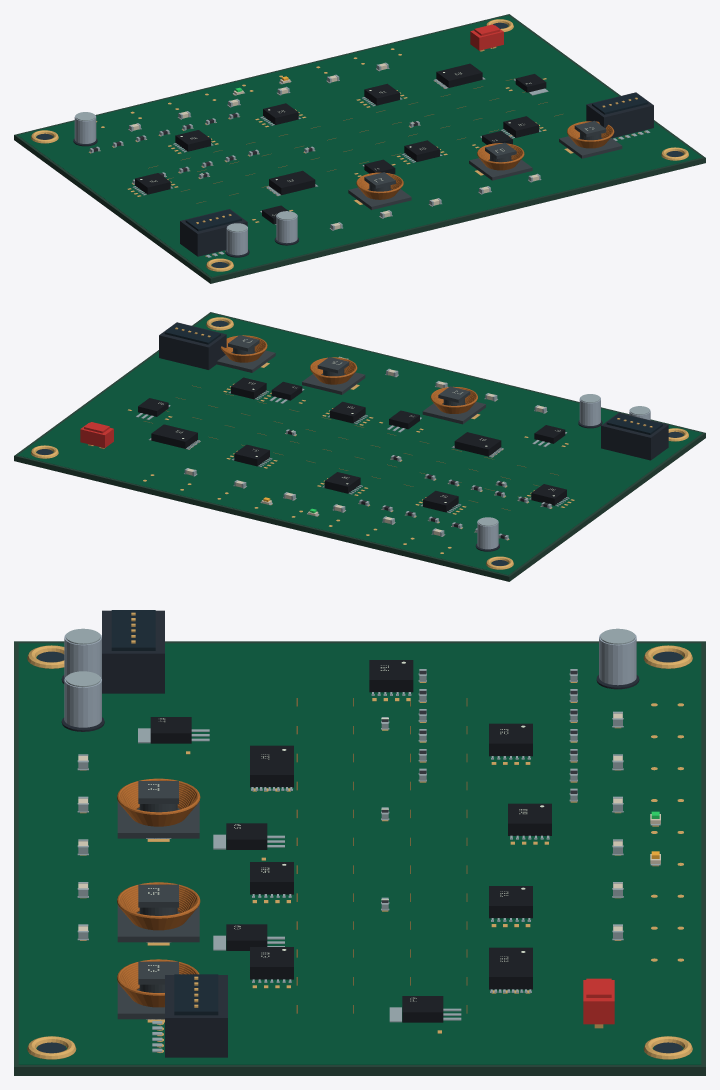
The model's file is L97_COMPLETE_ASSEMBLED_VISUAL_REFERENCE_ONLY.fbx.
3 views of the same model, one above another, from view 1: azimuth 30°, elevation 25°; view 2: azimuth 150°, elevation 25°; view 3: azimuth 270°, elevation 25° (orthographic). The views are drawn at different scales.
Visible parts, largest first — view 1: 00_L97_VGR5_Empty_PCB_160x110mm_top_soldermask, 00_L97_VGR5_Empty_PCB_160x110mm_FR4_core, 47_L97_J2_Connector_J2_shell, 46_L97_J1_Connector_J1_shell, 08_L97_U8_IC_U8_molded_body, 01_L97_U1_IC_U1_molded_body, 47_L97_J2_Connector_J2_opening, 46_L97_J1_Connector_J1_opening, 13_L97_L1_Inductor_L1_base, 14_L97_L2_Inductor_L2_base, 15_L97_L3_Inductor_L3_base, 03_L97_U3_IC_U3_molded_body (+9 smaller); view 2: 00_L97_VGR5_Empty_PCB_160x110mm_top_soldermask, 00_L97_VGR5_Empty_PCB_160x110mm_FR4_core, 46_L97_J1_Connector_J1_shell, 47_L97_J2_Connector_J2_shell, 01_L97_U1_IC_U1_molded_body, 08_L97_U8_IC_U8_molded_body, 46_L97_J1_Connector_J1_opening, 47_L97_J2_Connector_J2_opening, 14_L97_L2_Inductor_L2_base, 13_L97_L1_Inductor_L1_base, 15_L97_L3_Inductor_L3_base, 06_L97_U6_IC_U6_molded_body (+8 smaller); view 3: 00_L97_VGR5_Empty_PCB_160x110mm_top_soldermask, 00_L97_VGR5_Empty_PCB_160x110mm_FR4_core, 46_L97_J1_Connector_J1_shell, 47_L97_J2_Connector_J2_shell, 00_L97_VGR5_Empty_PCB_160x110mm_plated_mounting_ring (×3), 08_L97_U8_IC_U8_molded_body, 01_L97_U1_IC_U1_molded_body, 47_L97_J2_Connector_J2_opening, 46_L97_J1_Connector_J1_opening, 14_L97_L2_Inductor_L2_base, 13_L97_L1_Inductor_L1_base, 36_L97_C8_Capacitor_C8_aluminum_can (+17 smaller).
Boxes of the visible parts, <box> form: 00_L97_VGR5_Empty_PCB_160x110mm_top_soldermask: <box>18,15,701,277</box>; 00_L97_VGR5_Empty_PCB_160x110mm_FR4_core: <box>14,14,705,283</box>; 47_L97_J2_Connector_J2_shell: <box>586,92,653,138</box>; 46_L97_J1_Connector_J1_shell: <box>180,209,247,256</box>; 08_L97_U8_IC_U8_molded_body: <box>436,63,482,87</box>; 01_L97_U1_IC_U1_molded_body: <box>269,170,315,195</box>; 47_L97_J2_Connector_J2_opening: <box>592,93,648,114</box>; 46_L97_J1_Connector_J1_opening: <box>185,209,241,231</box>; 13_L97_L1_Inductor_L1_base: <box>348,187,411,209</box>; 14_L97_L2_Inductor_L2_base: <box>469,158,532,180</box>; 15_L97_L3_Inductor_L3_base: <box>559,136,622,158</box>; 03_L97_U3_IC_U3_molded_body: <box>503,116,538,137</box>; 00_L97_VGR5_Empty_PCB_160x110mm_top_soldermask: <box>18,313,701,575</box>; 00_L97_VGR5_Empty_PCB_160x110mm_FR4_core: <box>14,312,705,581</box>; 46_L97_J1_Connector_J1_shell: <box>601,412,668,460</box>; 47_L97_J2_Connector_J2_shell: <box>159,322,226,369</box>; 01_L97_U1_IC_U1_molded_body: <box>454,432,501,456</box>; 08_L97_U8_IC_U8_molded_body: <box>151,424,197,448</box>; 46_L97_J1_Connector_J1_opening: <box>606,413,662,434</box>; 47_L97_J2_Connector_J2_opening: <box>164,323,220,344</box>; 14_L97_L2_Inductor_L2_base: <box>302,372,365,394</box>; 13_L97_L1_Inductor_L1_base: <box>422,402,485,424</box>; 15_L97_L3_Inductor_L3_base: <box>217,350,275,372</box>; 06_L97_U6_IC_U6_molded_body: <box>324,472,360,493</box>; 00_L97_VGR5_Empty_PCB_160x110mm_top_soldermask: <box>18,643,701,1064</box>; 00_L97_VGR5_Empty_PCB_160x110mm_FR4_core: <box>14,641,705,1075</box>; 46_L97_J1_Connector_J1_shell: <box>102,610,164,693</box>; 47_L97_J2_Connector_J2_shell: <box>165,975,227,1057</box>; 00_L97_VGR5_Empty_PCB_160x110mm_plated_mounting_ring (×3): <box>27,645,692,1059</box>; 08_L97_U8_IC_U8_molded_body: <box>489,947,532,989</box>; 01_L97_U1_IC_U1_molded_body: <box>250,745,293,787</box>; 47_L97_J2_Connector_J2_opening: <box>174,974,218,1015</box>; 46_L97_J1_Connector_J1_opening: <box>111,610,155,650</box>; 14_L97_L2_Inductor_L2_base: <box>117,905,199,942</box>; 13_L97_L1_Inductor_L1_base: <box>117,801,199,838</box>; 36_L97_C8_Capacitor_C8_aluminum_can: <box>599,633,636,685</box>.
Bounding box in the file's own units: 0.16 × 0.00971 × 0.11.
